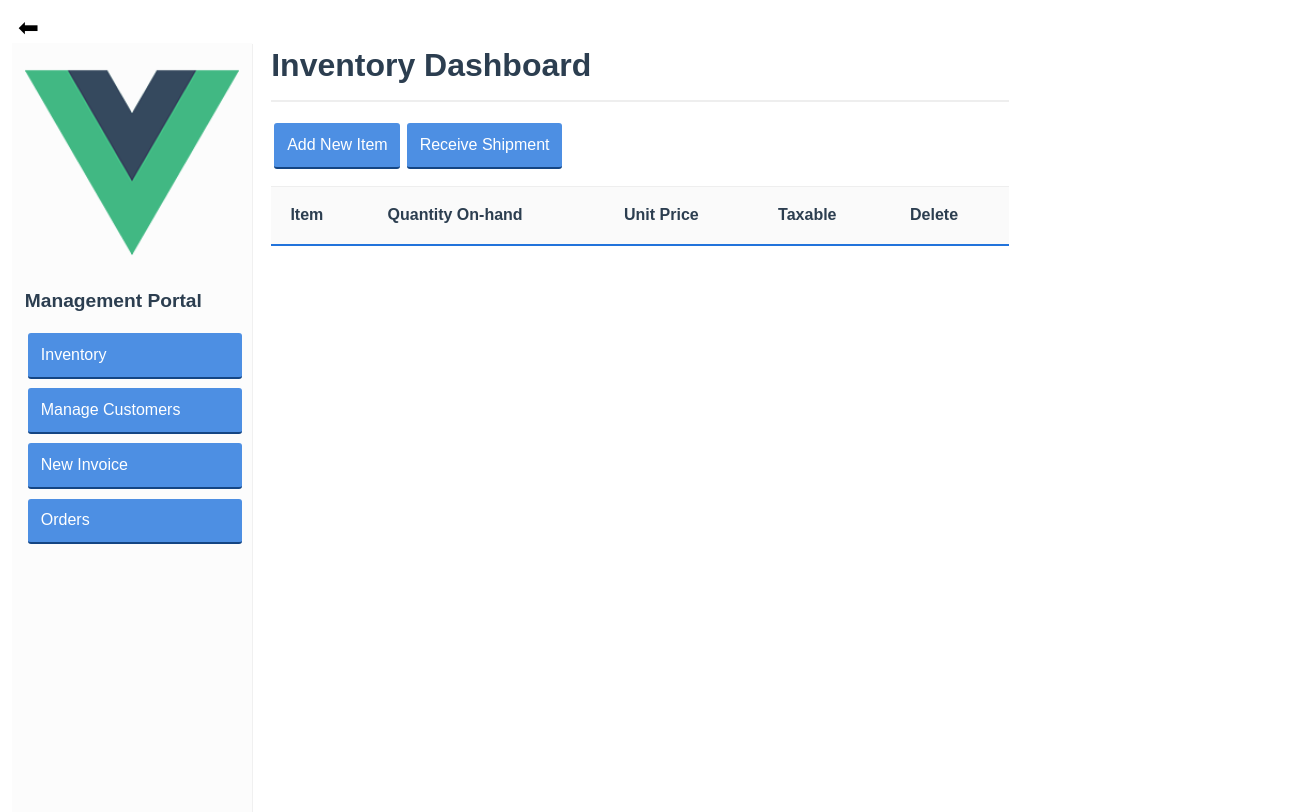
Scenario: SideMenu › it visits the invoice page via button
This screenshot has width=1292, height=812.
What coordinates should you click on to do the following:
click the button with id "menuInvoice"
I would click on:
 (132, 467)
Its box is [25,439,239,494].
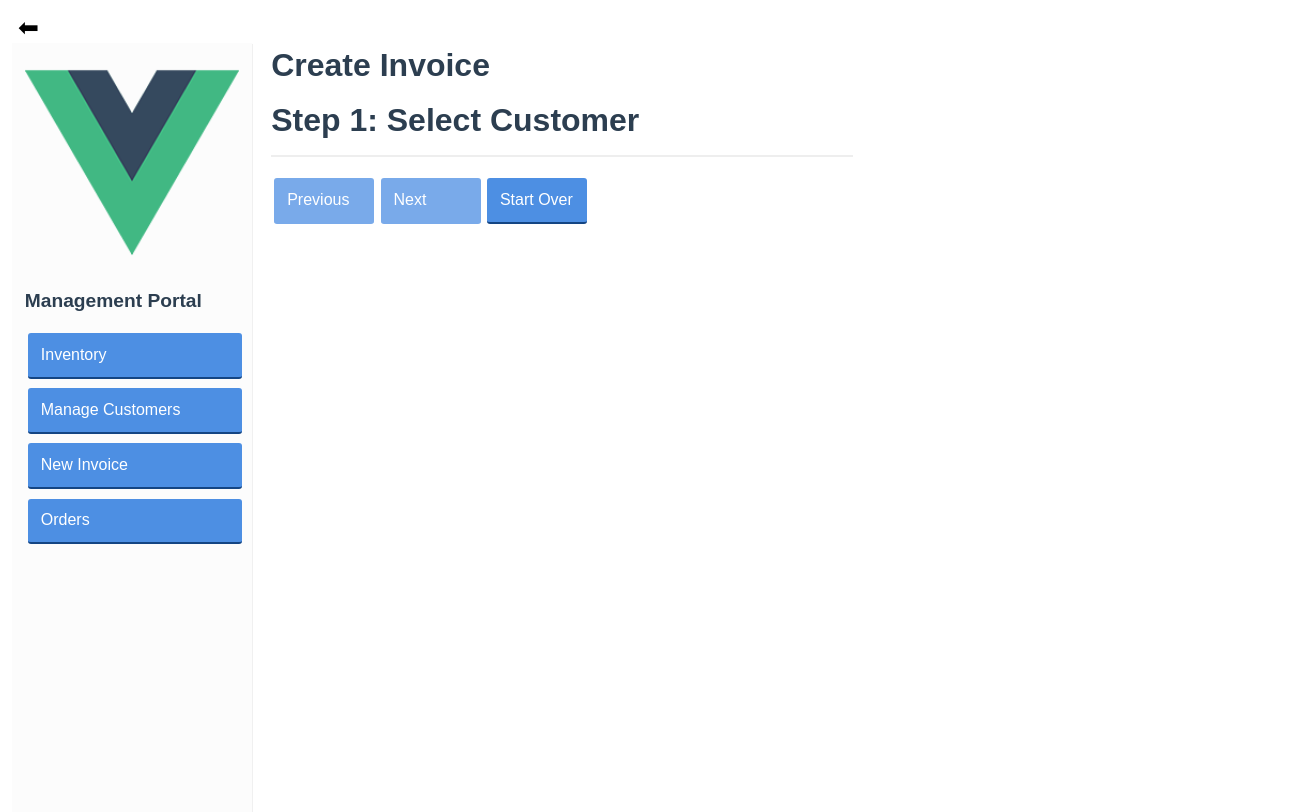
expect the heading "Create Invoice" is shown: met, box [271,47,490,83]
